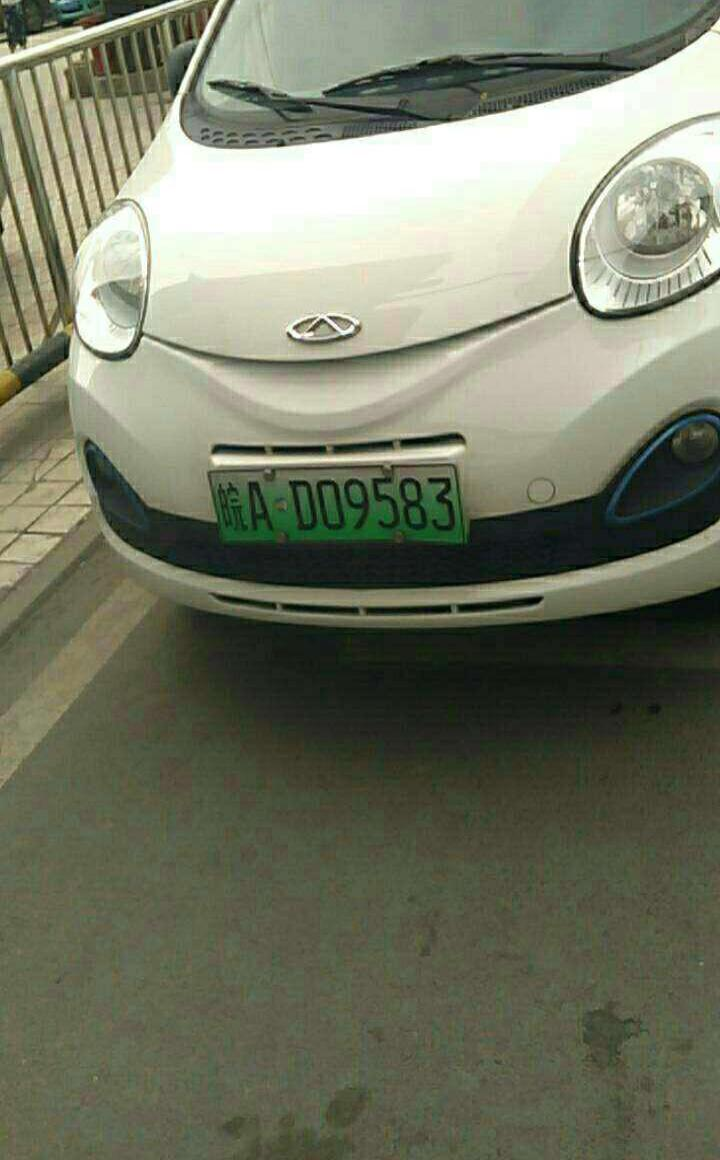car_green: (207, 458, 469, 555)
